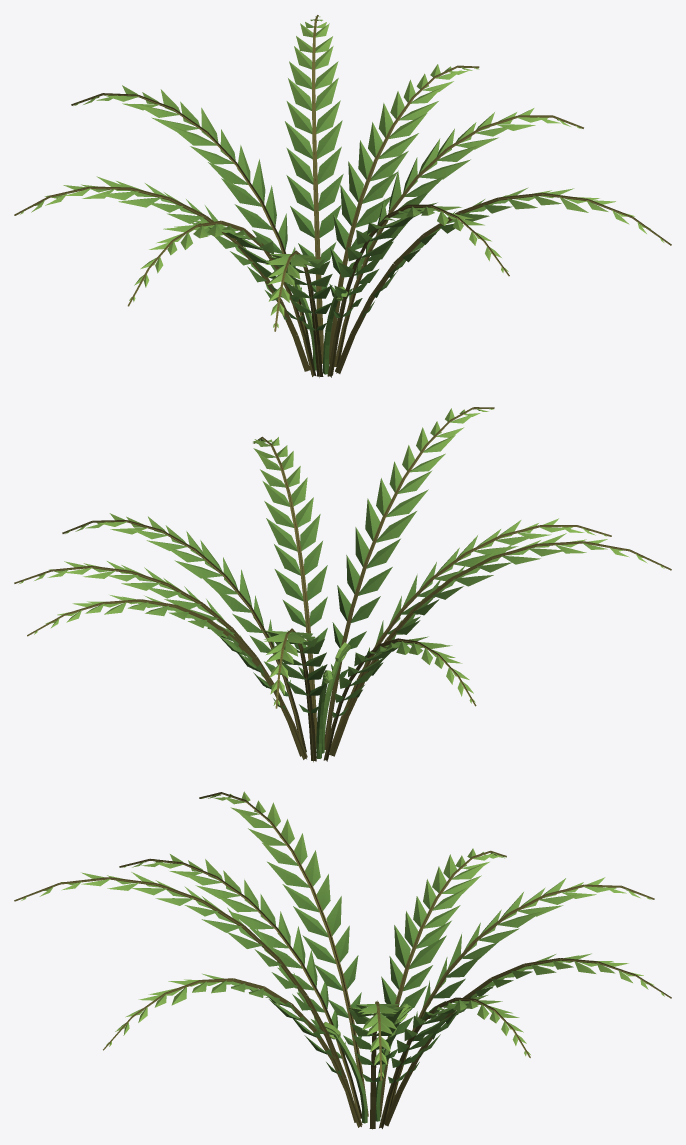
File: fern_sword.glb
3 views of the same model, one above another, from view 1: azimuth 30°, elevation 25°; view 2: azimuth 150°, elevation 25°; view 3: azimuth 270°, elevation 25° (orthographic). The views are drawn at different scales.
Visible parts, largest first — view 1: fern_sword; view 2: fern_sword; view 3: fern_sword.
Part boxes in pixels (<box>): fern_sword: <box>14,15,671,377</box>; fern_sword: <box>14,407,671,762</box>; fern_sword: <box>14,791,671,1129</box>.
Size of the model in its own units: 1.23 by 0.5481 by 1.33.
Materials: 1 (1 with a texture image).
